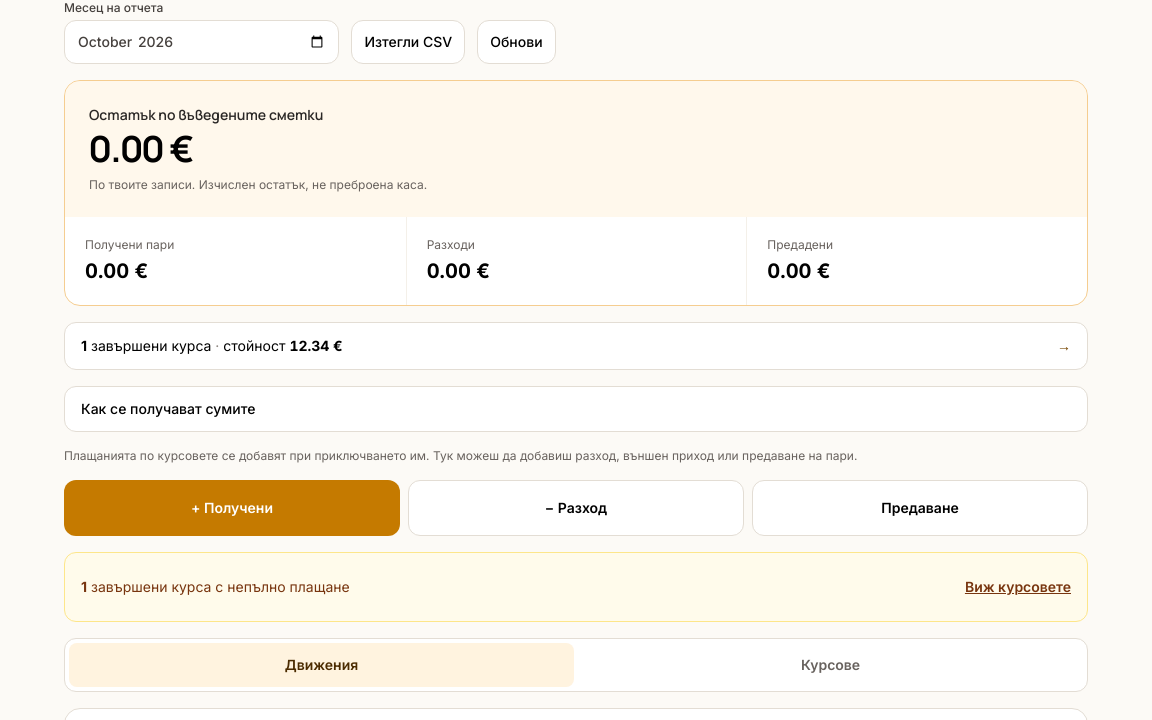
Test: prefills a ride without claiming that the quoted amount has already been paid
Click the button "Курсове": (830, 665) 578,643 -> 1083,687
(page scrolled)
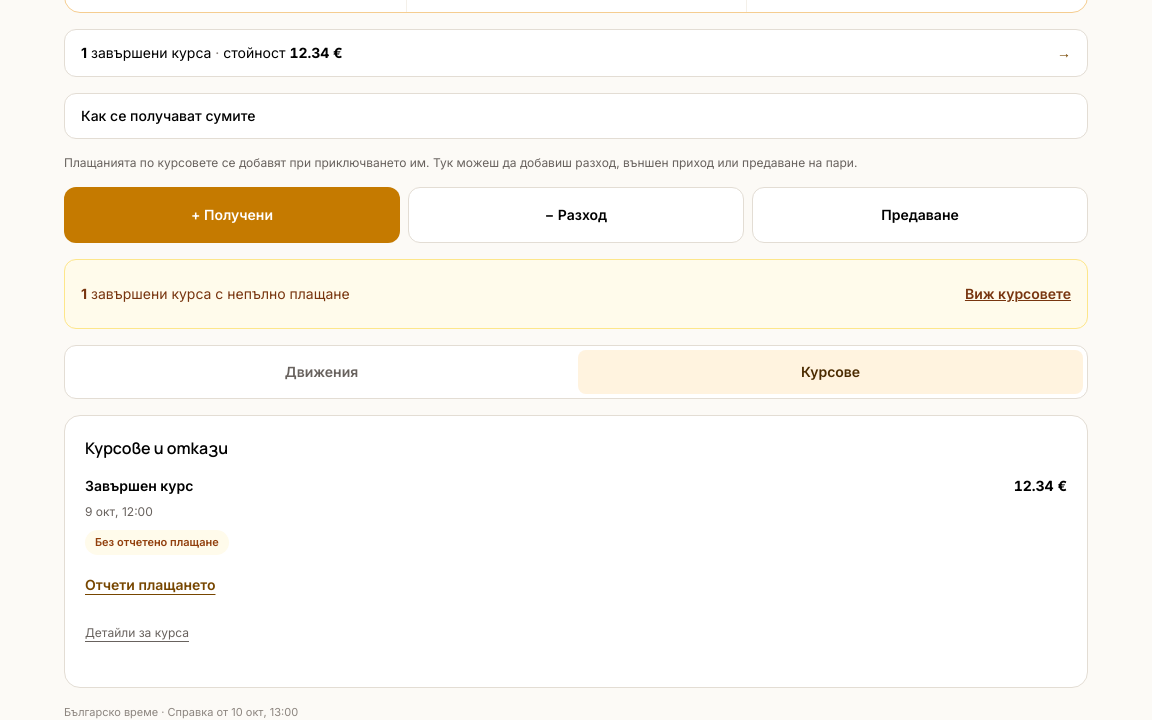
Click the button "Отчети плащането": (150, 584) 85,562 -> 216,606
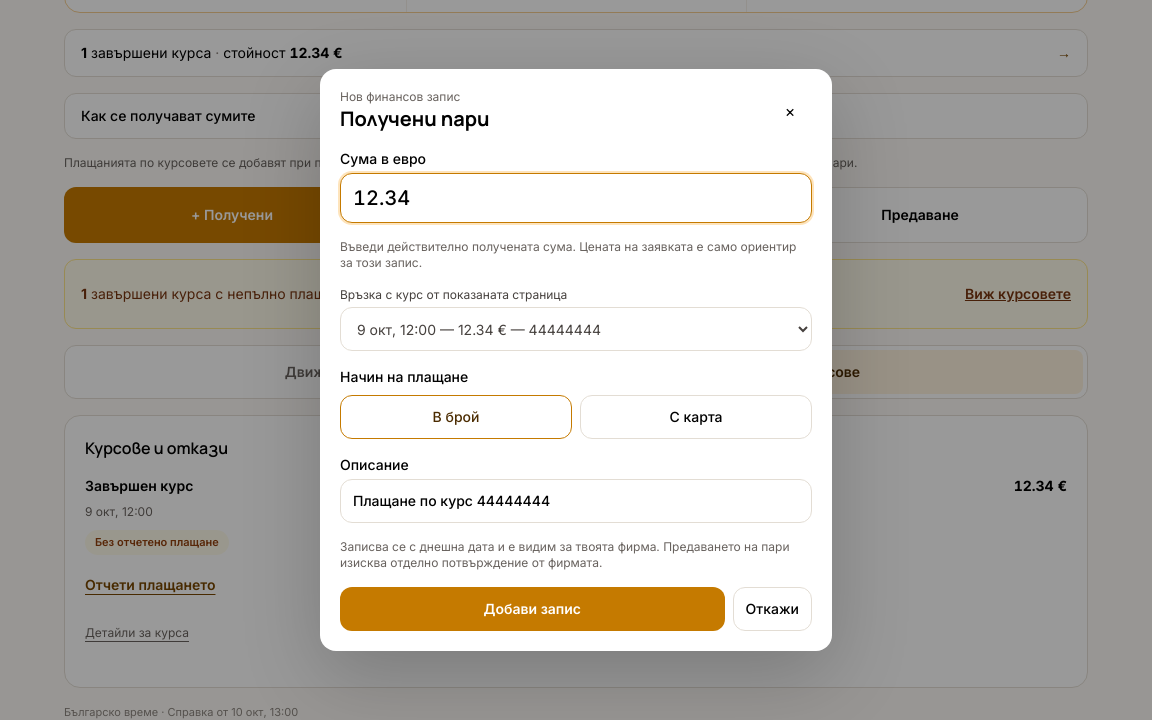
Now the field labelled "Сума в евро" holds "12.34", box 340,173 -> 812,223
Now the dropdown labelled "Връзка с курс от показаната страница" shows "9 окт, 12:00 — 12.34 € — 44444444", box 340,307 -> 812,351
